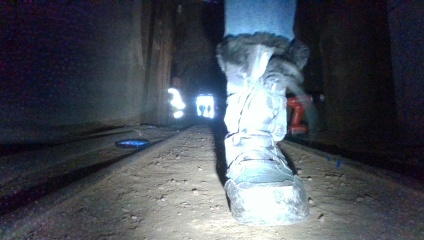cellphone: (113, 137, 150, 151)
drill: (288, 93, 328, 139)
manikin: (166, 75, 195, 129)
